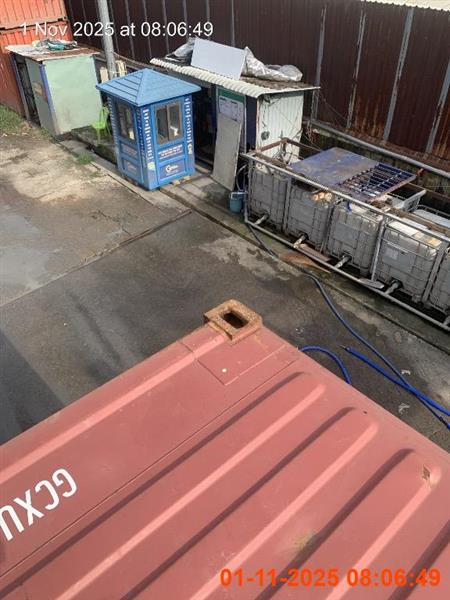broken: (0, 298, 449, 599)
